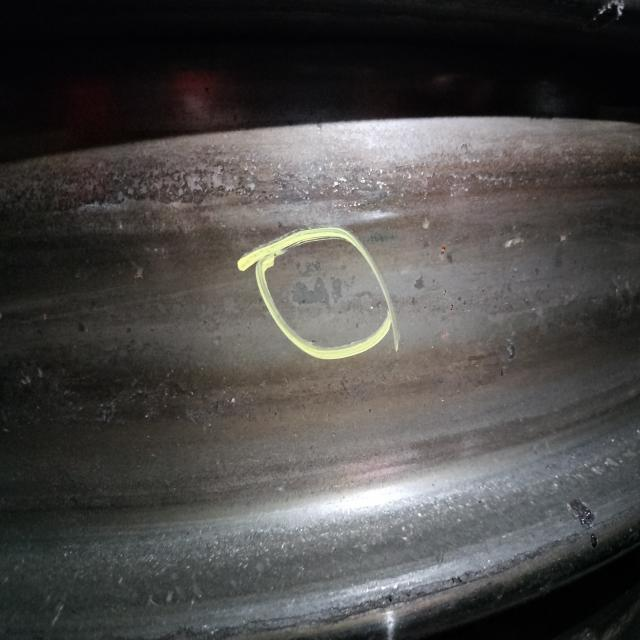Peeling: (292, 260, 378, 319)
